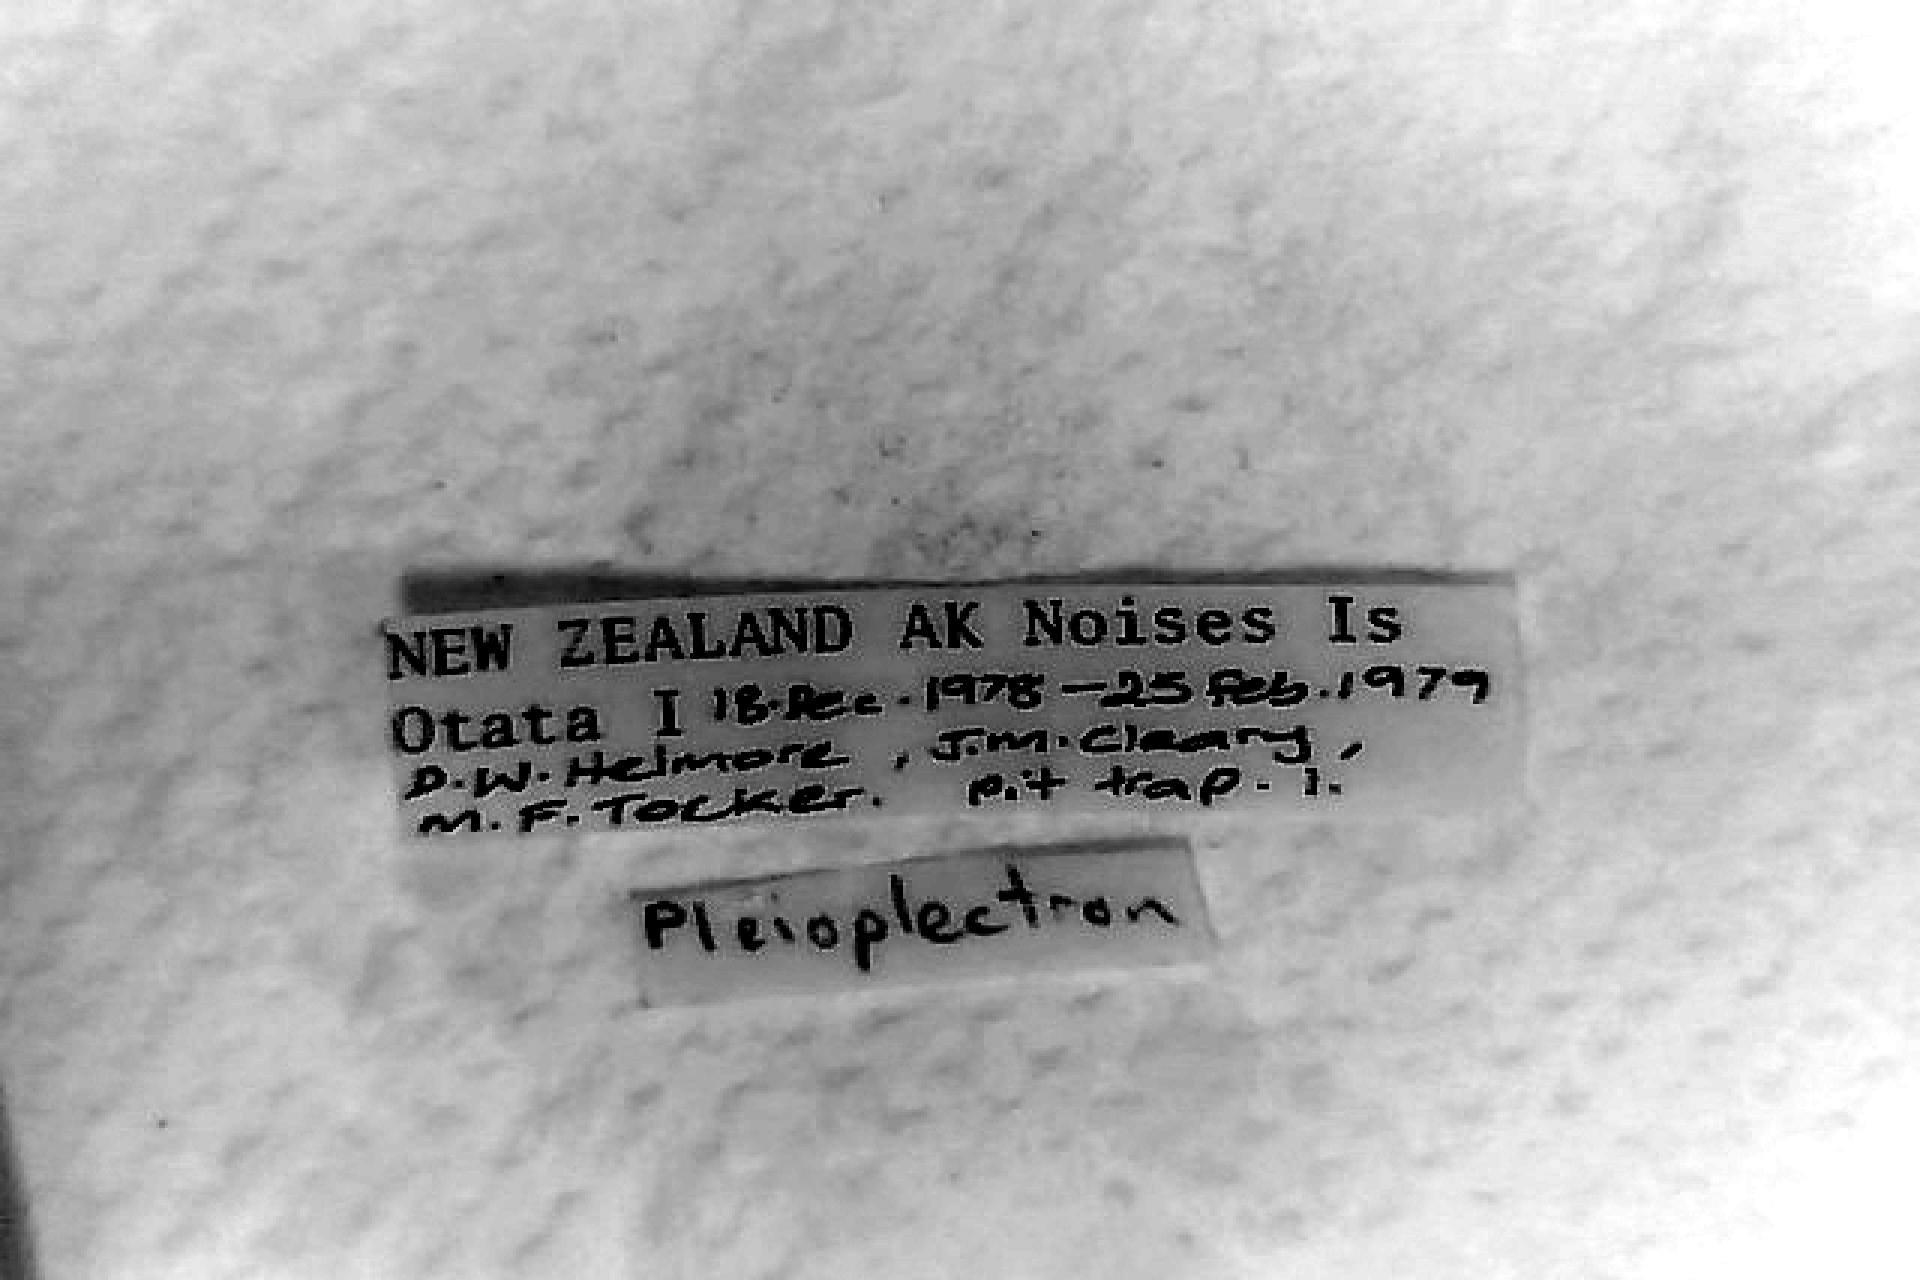hand_label: (637, 840, 1214, 1006)
mixed_label: (383, 577, 1523, 840)
